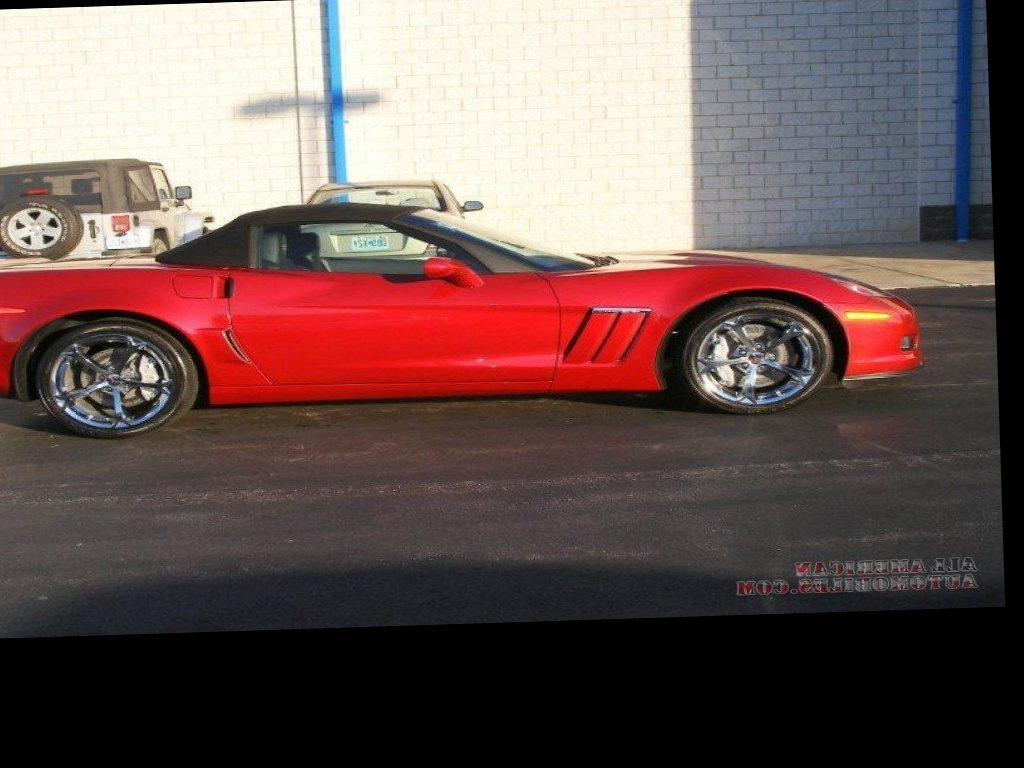car: (0, 133, 959, 490), (0, 134, 208, 268)
